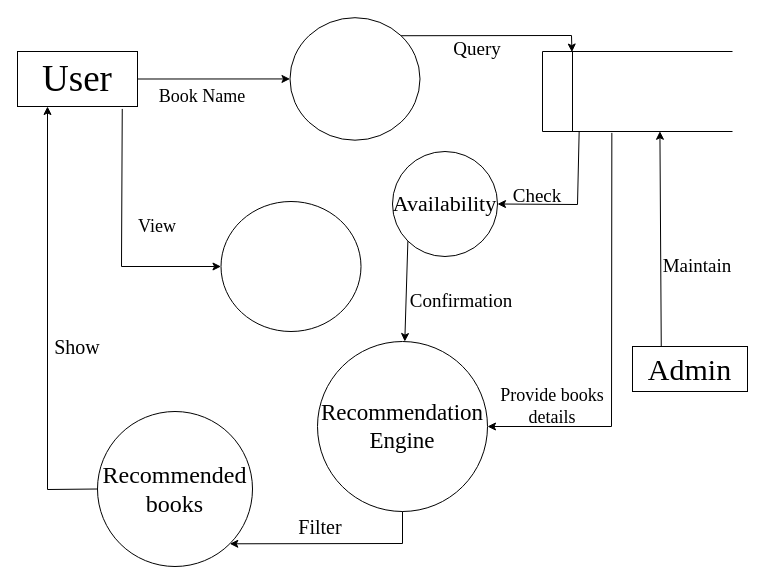
This 765x584 diagram has some shape labels left out. Here are the shapes that lost their labels. From the top down, the centre of each, then its label:
At [354,78]: "Search".
At [637,91]: "Book DataBase".
At [290,266]: "Popular Books".
